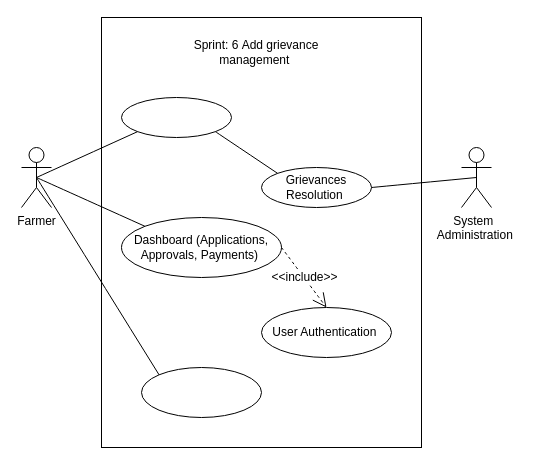
This 533x465 diagram has some shape labels left out. The shapes that lost their labels are listed below. From the top down, each one's centre as x and y in pixels, then its label:
point 176,117: Raise Grievance
point 201,392: Read news & blogs
